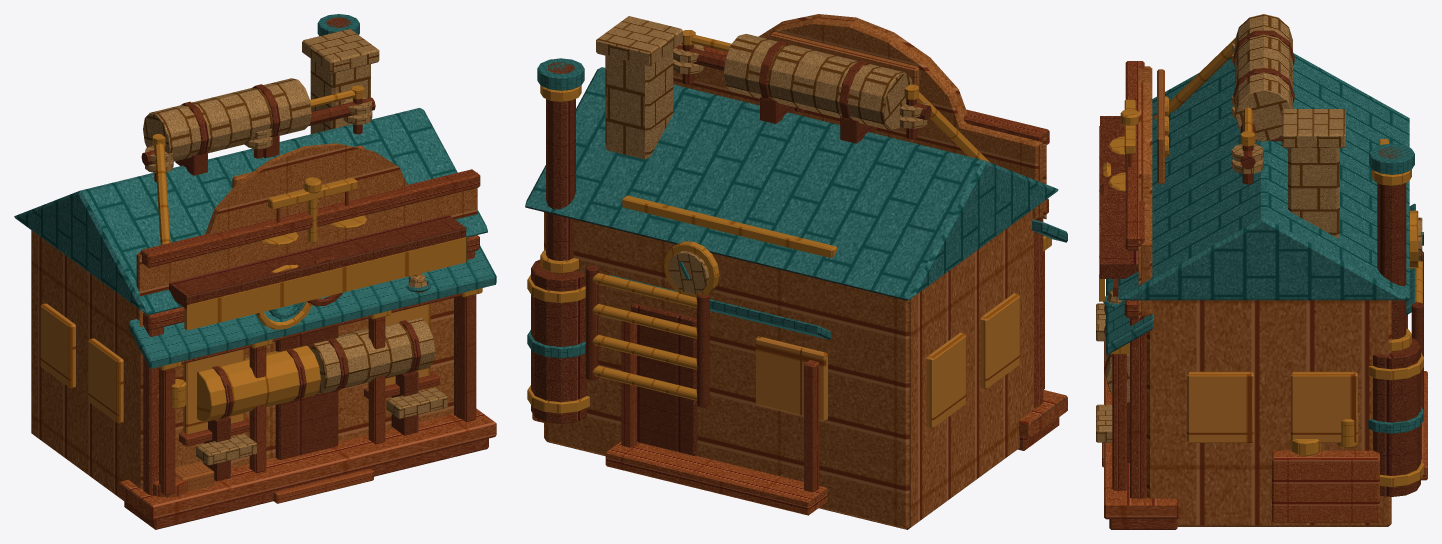
The model's file is assay-office.e4.glb.
3 renders of one model, left to right at view 1: azimuth 30°, elevation 25°; view 2: azimuth 150°, elevation 25°; view 3: azimuth 270°, elevation 25°, orthographic. The views are drawn at different scales.
Visible parts, largest first — view 1: AssayOfficeE4; view 2: AssayOfficeE4; view 3: AssayOfficeE4.
Boxes of the visible parts, x1,y1,x2,y2 form: AssayOfficeE4: (14, 14, 496, 529); AssayOfficeE4: (525, 14, 1067, 529); AssayOfficeE4: (1096, 14, 1427, 529).
Size of the model in its own units: 4.42 by 4.2 by 3.32.
1 material, 1 textured.
